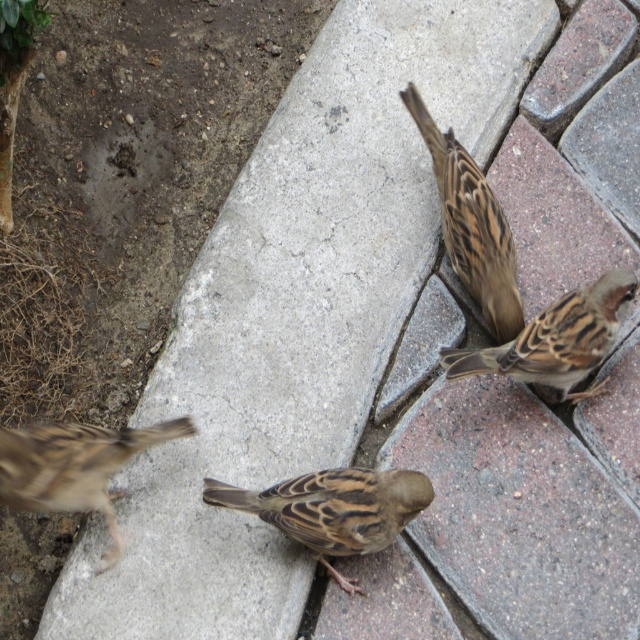Sparrow: (395, 87, 518, 347), (204, 468, 436, 598), (0, 420, 196, 569), (440, 268, 640, 396)
